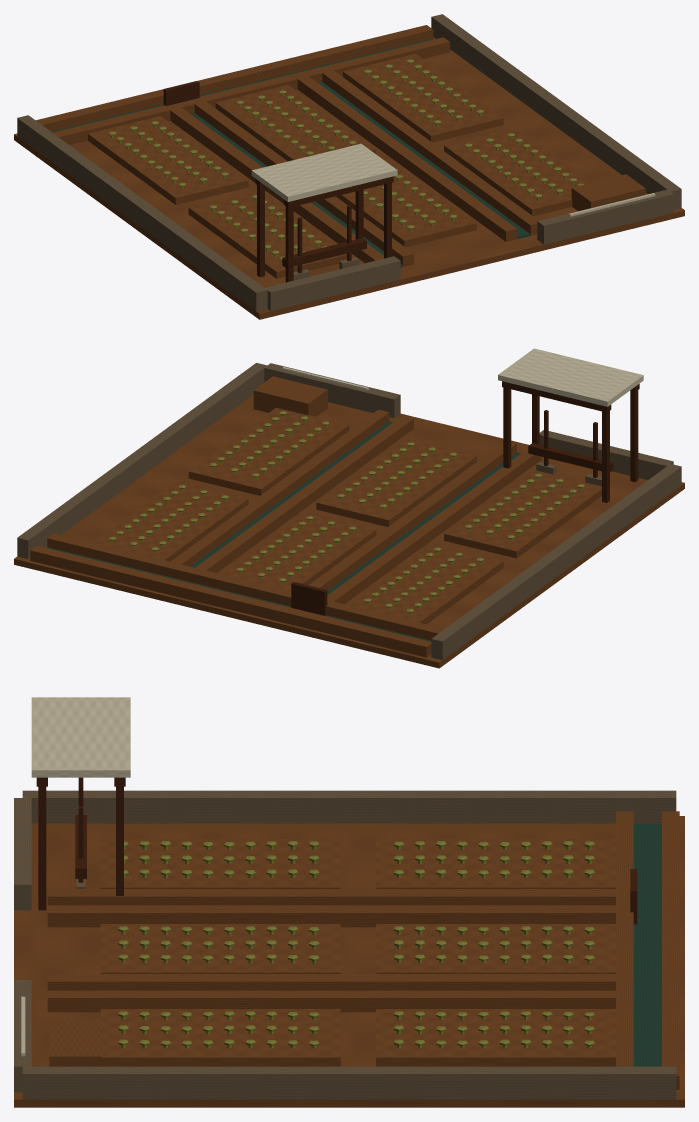
File: Berber_Farm_Age2_depleted.fbx
3 renders of one model, top to bottom at view 1: azimuth 30°, elevation 25°; view 2: azimuth 150°, elevation 25°; view 3: azimuth 270°, elevation 25°, orthographic. The views are drawn at different scales.
Visible parts, largest first — view 1: flat_earth_plot, low_side_edging, low_side_edging.001, raised_bed_0_1, raised_bed_2_1, raised_bed_2_0, header_channel_bank.001, raised_bed_1_1, raised_bed_0_0, woven_tool_shade, branch_channel_bank.002, raised_bed_1_0 (+16 smaller); view 2: flat_earth_plot, low_side_edging, low_side_edging.001, header_channel_bank.001, raised_bed_0_0, raised_bed_1_0, raised_bed_2_0, raised_bed_0_1, raised_bed_2_1, raised_bed_1_1, header_channel_bank, woven_tool_shade (+16 smaller); view 3: flat_earth_plot, low_side_edging.001, low_side_edging, raised_bed_2_1, raised_bed_2_0, branch_channel_bank.001, branch_channel_bank.003, raised_bed_1_0, raised_bed_1_1, raised_bed_0_1, raised_bed_0_0, branch_channel_bank.002 (+10 smaller).
Boxes of the visible parts, x1,y1,x2,y2 form: flat_earth_plot: [14, 37, 684, 319]; low_side_edging: [17, 115, 267, 311]; low_side_edging.001: [431, 14, 681, 209]; raised_bed_0_1: [88, 116, 248, 204]; raised_bed_2_1: [343, 54, 503, 142]; raised_bed_2_0: [444, 127, 591, 216]; header_channel_bank.001: [36, 25, 433, 131]; raised_bed_1_1: [215, 85, 376, 161]; raised_bed_0_0: [188, 191, 346, 278]; woven_tool_shade: [251, 143, 397, 201]; branch_channel_bank.002: [297, 76, 516, 241]; raised_bed_1_0: [336, 159, 476, 247]; flat_earth_plot: [14, 394, 684, 668]; low_side_edging: [431, 464, 681, 660]; low_side_edging.001: [17, 363, 267, 559]; header_channel_bank.001: [30, 546, 431, 657]; raised_bed_0_0: [444, 469, 601, 558]; raised_bed_1_0: [316, 438, 476, 526]; raised_bed_2_0: [188, 407, 349, 495]; raised_bed_0_1: [347, 543, 503, 624]; raised_bed_2_1: [92, 481, 248, 561]; raised_bed_1_1: [219, 512, 376, 591]; header_channel_bank: [47, 533, 444, 640]; woven_tool_shade: [498, 348, 643, 406]; flat_earth_plot: [14, 816, 684, 1107]; low_side_edging.001: [22, 1066, 676, 1099]; low_side_edging: [22, 790, 676, 823]; raised_bed_2_1: [376, 1009, 615, 1066]; raised_bed_2_0: [100, 1009, 340, 1066]; branch_channel_bank.001: [47, 905, 615, 927]; branch_channel_bank.003: [47, 990, 615, 1012]; raised_bed_1_0: [100, 924, 340, 973]; raised_bed_1_1: [376, 924, 615, 973]; raised_bed_0_1: [376, 839, 615, 888]; raised_bed_0_0: [100, 839, 340, 888]; branch_channel_bank.002: [47, 974, 615, 990].
Size of the model in its own units: 380 by 93.75 by 380.
Materials: 6 (6 with a texture image).
